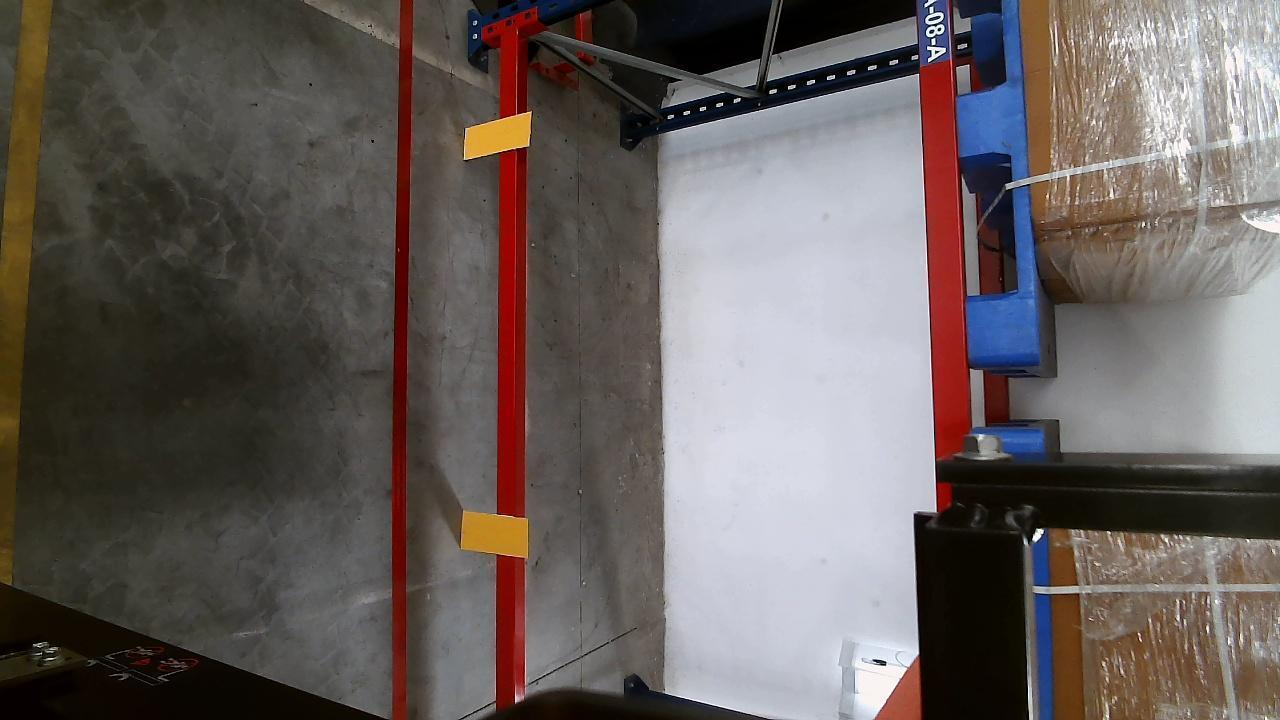red_line: (392, 0, 413, 720)
yellow_line: (0, 0, 54, 584)
